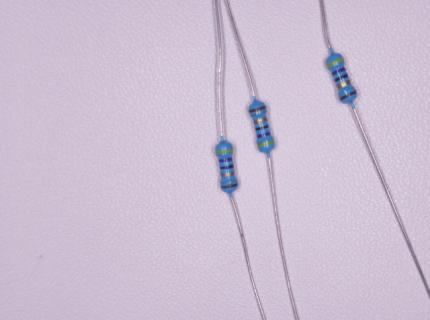Gold band: (337, 80, 351, 89), (221, 171, 234, 177), (254, 118, 267, 124)
Violet band: (257, 131, 271, 139), (332, 68, 346, 76), (219, 157, 232, 163)
Yellow band: (327, 58, 344, 68), (258, 139, 274, 148), (216, 148, 233, 154)
